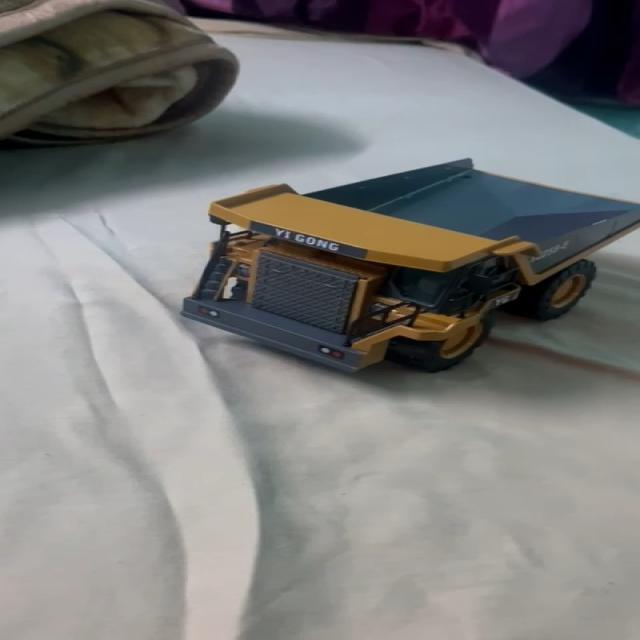dump_truck: (175, 157, 640, 378)
